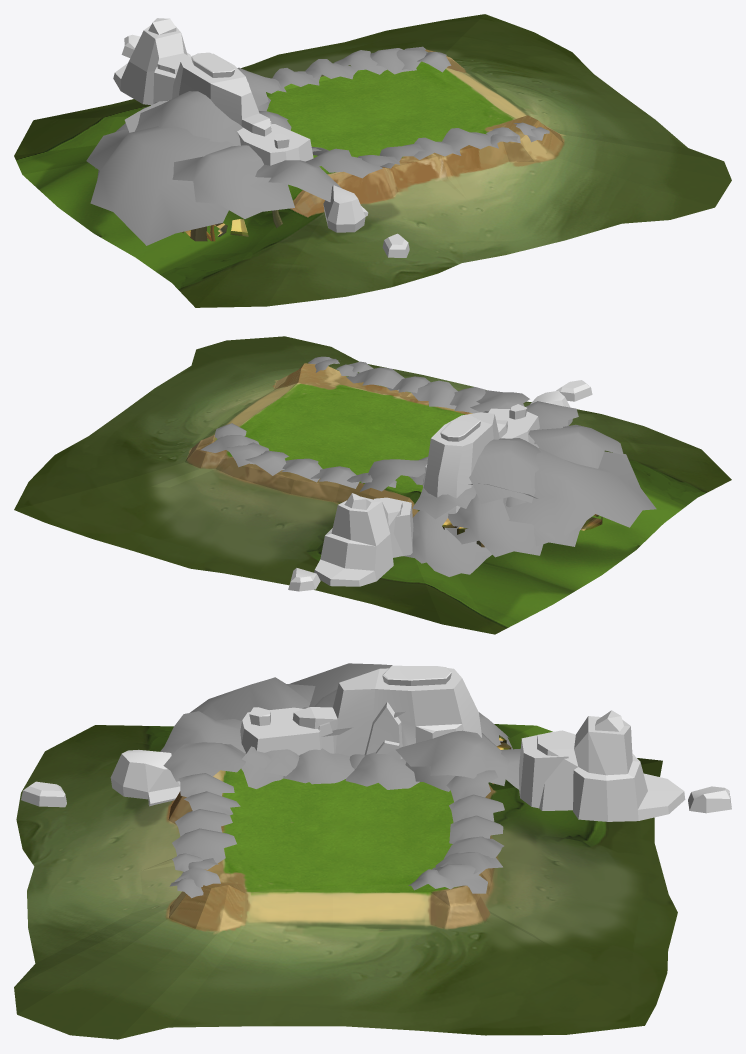
Rendered from small_a_island.FBX.
The picture shows the model from 3 angles, top to bottom: view 1: azimuth 30°, elevation 25°; view 2: azimuth 150°, elevation 25°; view 3: azimuth 270°, elevation 25°; orthographic projection. The views are drawn at different scales.
Visible parts, largest first — view 1: Rectangle007, small_a_island, Line013, objLine033, Line014; view 2: Rectangle007, small_a_island, Line013, objLine033; view 3: Rectangle007, Line013, objLine033, small_a_island.
Boxes of the visible parts, x1,y1,x2,y2 form: Rectangle007: (14, 14, 731, 307); small_a_island: (86, 67, 549, 245); Line013: (113, 18, 409, 257); objLine033: (124, 46, 498, 168); Line014: (182, 210, 282, 241); Rectangle007: (14, 336, 731, 634); small_a_island: (308, 356, 656, 576); Line013: (288, 380, 592, 591); objLine033: (201, 367, 537, 498); Rectangle007: (14, 724, 677, 1039); Line013: (21, 665, 731, 821); objLine033: (172, 746, 504, 893); small_a_island: (160, 663, 520, 898).
Bounding box in the file's own units: 103 × 22.76 × 95.51.
